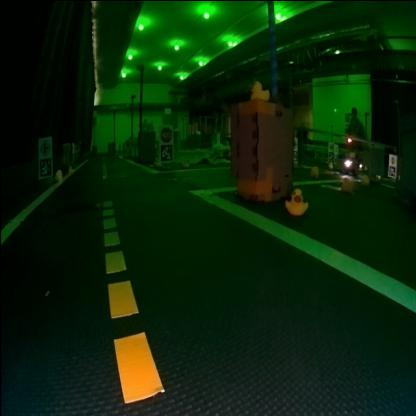Duckie: (285, 187, 308, 214), (250, 80, 269, 98), (342, 176, 352, 189), (55, 168, 62, 180), (68, 164, 74, 172)
Duckiebot: (344, 158, 359, 173)
Intersection sign: (38, 137, 52, 155)
QR code: (160, 142, 172, 160), (40, 156, 51, 174)
Stop sign: (160, 125, 172, 141)
